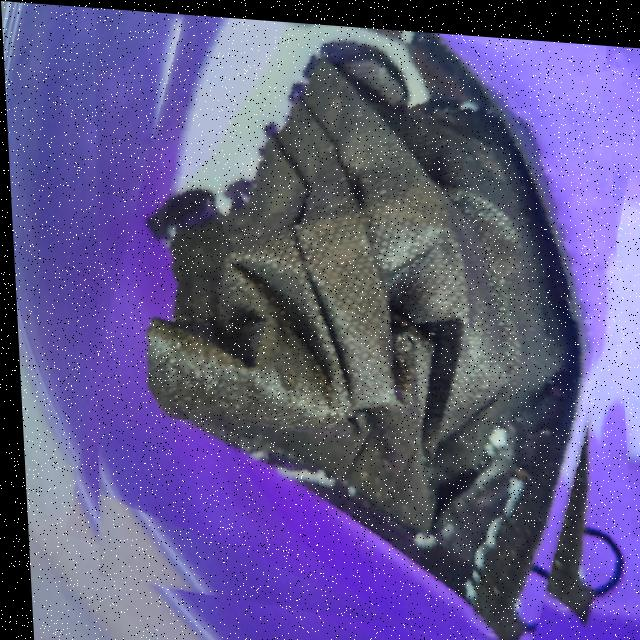mask: (69, 4, 630, 640)
